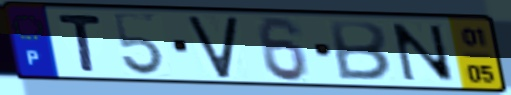5: (110, 10, 169, 79)
6: (254, 14, 312, 84)
B: (327, 18, 394, 83)
N: (388, 21, 459, 84)
T: (54, 12, 106, 75)
V: (184, 14, 240, 80)
